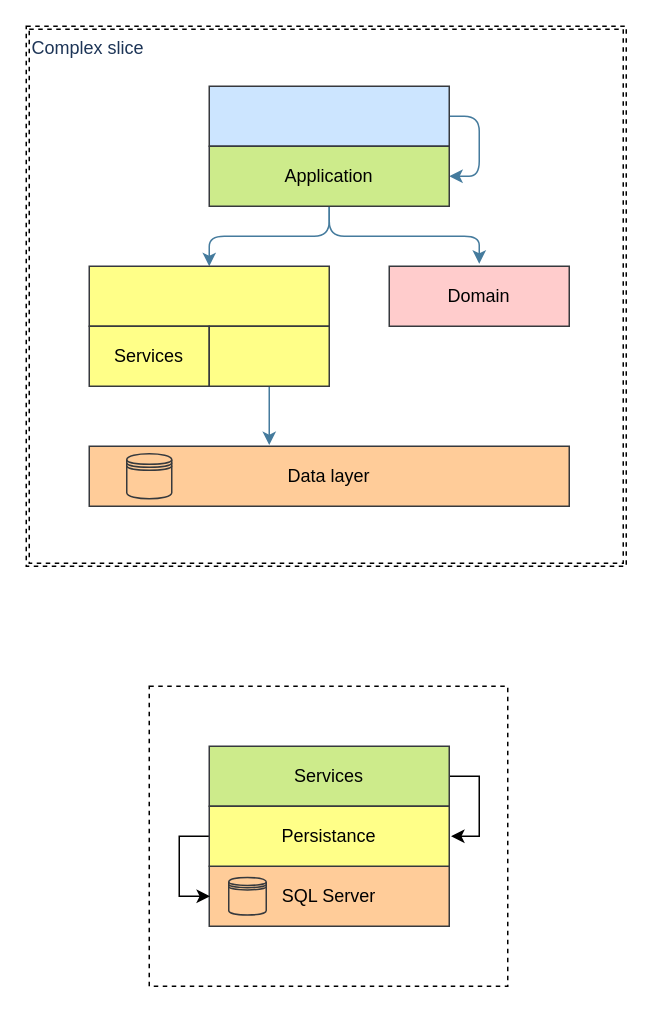
This 653x1013 diagram has some shape labels left out. The centre of each missing label's shape, as x and y in pixels:
Infrastructure: (208,295)
Persistence: (268,355)
Presentation: (328,115)
